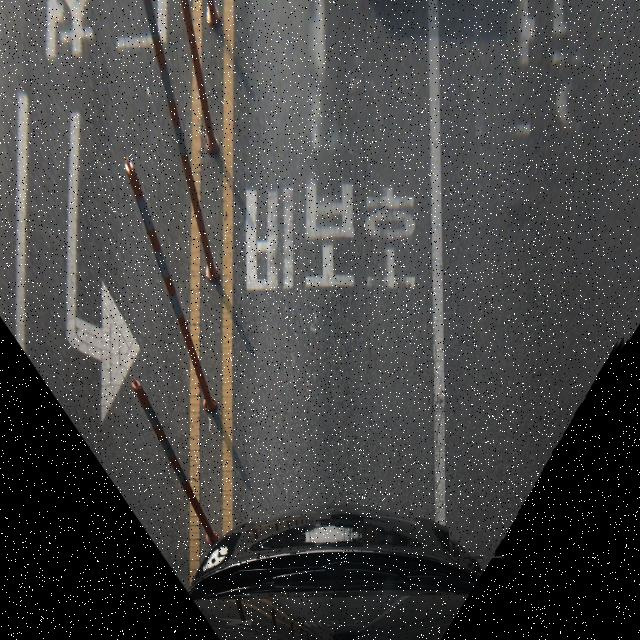left: (450, 202, 630, 557)
